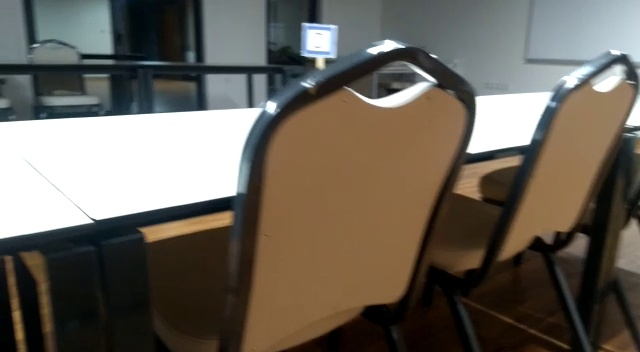durak: (303, 25, 336, 56)
